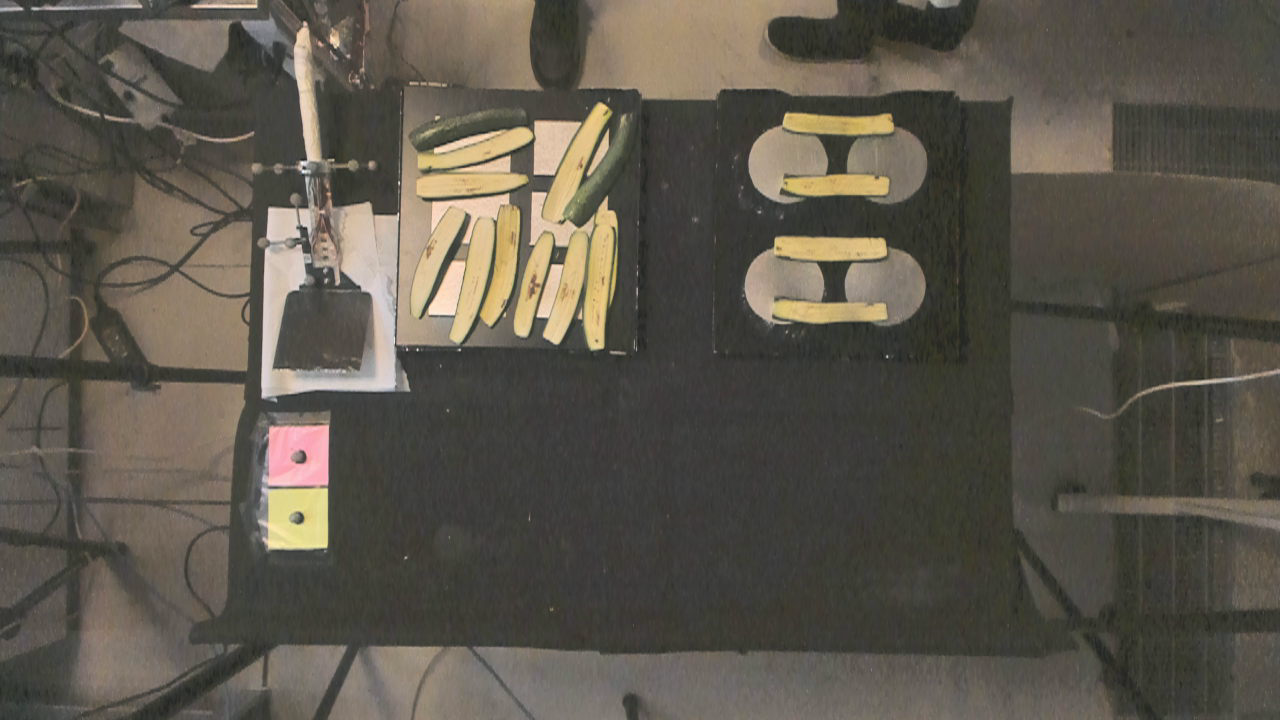marker: (266, 422, 329, 487)
zucchini: (405, 102, 540, 150), (506, 227, 553, 358), (444, 217, 487, 354), (411, 206, 459, 324), (767, 286, 896, 329), (766, 225, 902, 264), (776, 101, 898, 144), (420, 124, 535, 167), (759, 163, 895, 198), (403, 166, 529, 199), (556, 226, 587, 357), (585, 222, 611, 363)
